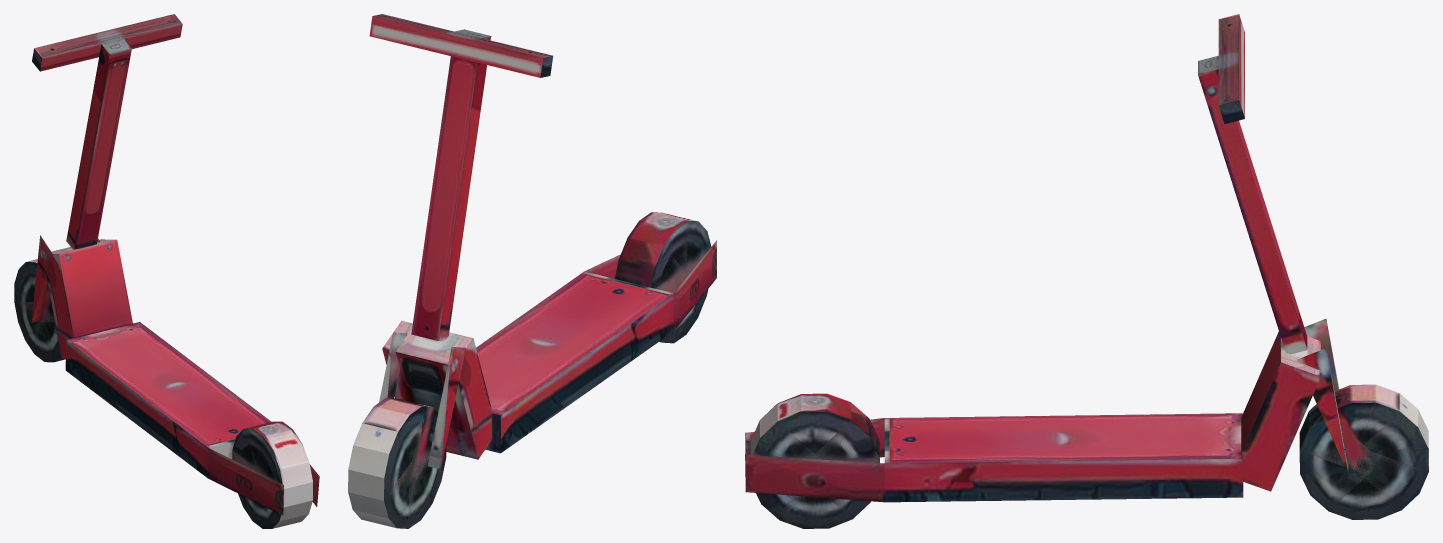
The model's file is lowPolyScooter.fbx.
The picture shows the model from 3 angles, left to right: view 1: azimuth 30°, elevation 25°; view 2: azimuth 150°, elevation 25°; view 3: azimuth 270°, elevation 25°; orthographic projection. The views are drawn at different scales.
Visible parts, largest first — view 1: Mesh_0; view 2: Mesh_0; view 3: Mesh_0.
Boxes of the visible parts, <box> form: Mesh_0: <box>14,14,319,528</box>; Mesh_0: <box>348,14,716,528</box>; Mesh_0: <box>745,14,1428,528</box>.
Bounding box in the file's own units: 29.85 × 74.66 × 100.
1 material, 1 textured.
